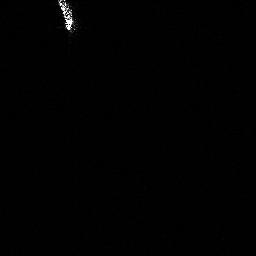ship: (54, 1, 81, 36)
